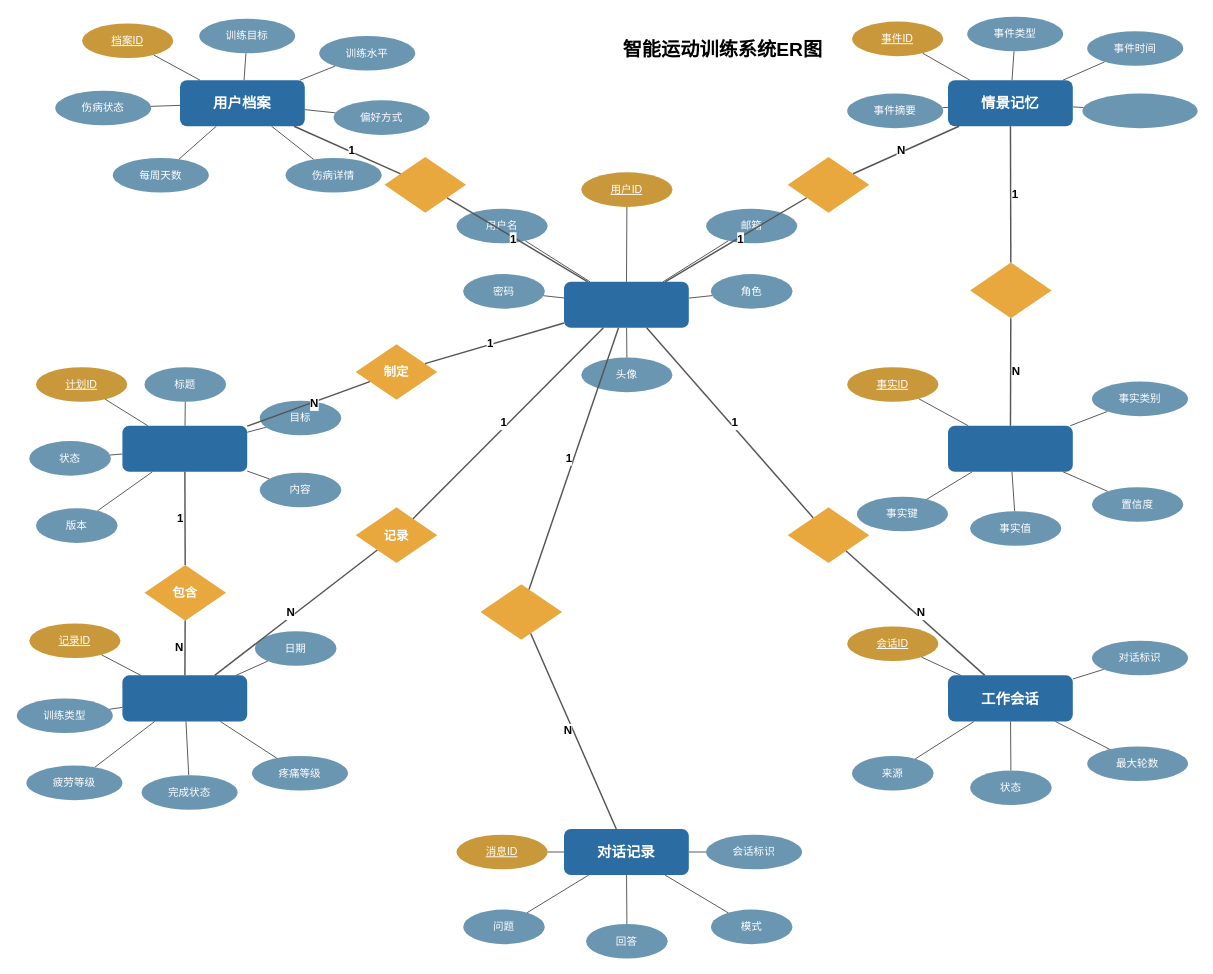
Image size: 1213x974. Some labels were removed from this diagram. Each missing label, with the box of its shape:
产生: (787, 156, 869, 212)
对话: (480, 584, 562, 639)
开启: (787, 507, 869, 563)
归纳: (970, 262, 1051, 318)
拥有: (384, 156, 466, 212)
用户: (564, 281, 688, 327)
训练计划: (122, 425, 247, 471)
训练记录: (122, 675, 247, 721)
语义记忆: (948, 425, 1072, 471)
重要性评分: (1082, 93, 1197, 128)
